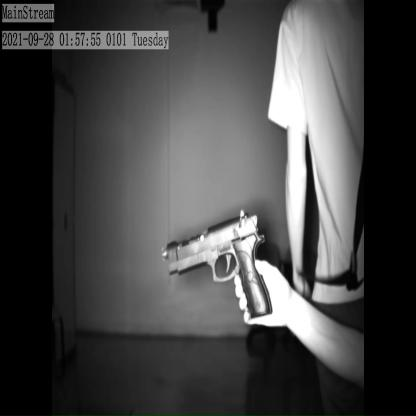weapon: (163, 206, 273, 324)
